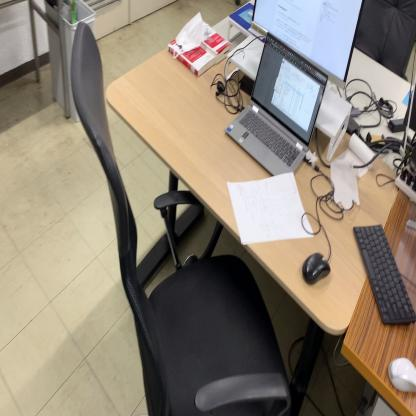chair: (70, 18, 290, 416)
